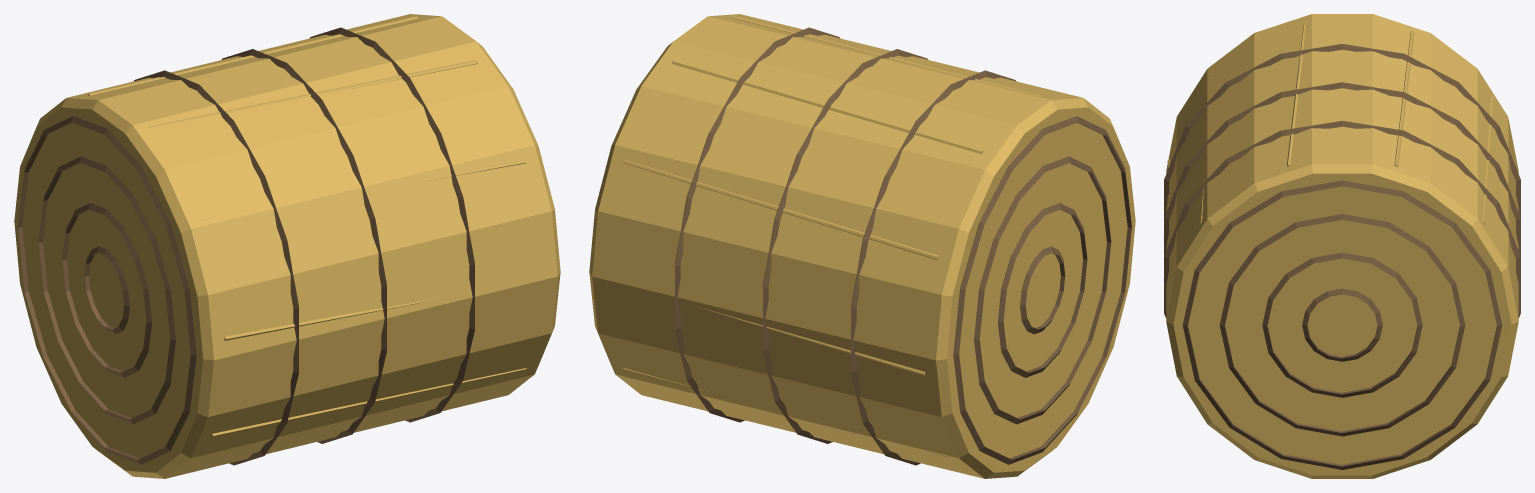
File: hay_bale_round.glb
3 views of the same model, side by side, from view 1: azimuth 30°, elevation 25°; view 2: azimuth 150°, elevation 25°; view 3: azimuth 270°, elevation 25° (orthographic). The views are drawn at different scales.
Parts seen in each view (by area): view 1: hay_bale_round; view 2: hay_bale_round; view 3: hay_bale_round.
Boxes of the visible parts, x1,y1,x2,y2 form: hay_bale_round: (14,14,560,478); hay_bale_round: (589,14,1135,478); hay_bale_round: (1164,14,1520,478).
Bounding box in the file's own units: 1.33 × 1.27 × 1.25.
